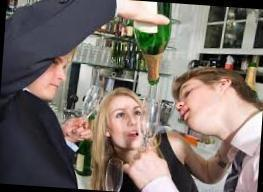Drunk: (176, 82, 222, 129), (108, 95, 142, 147)
